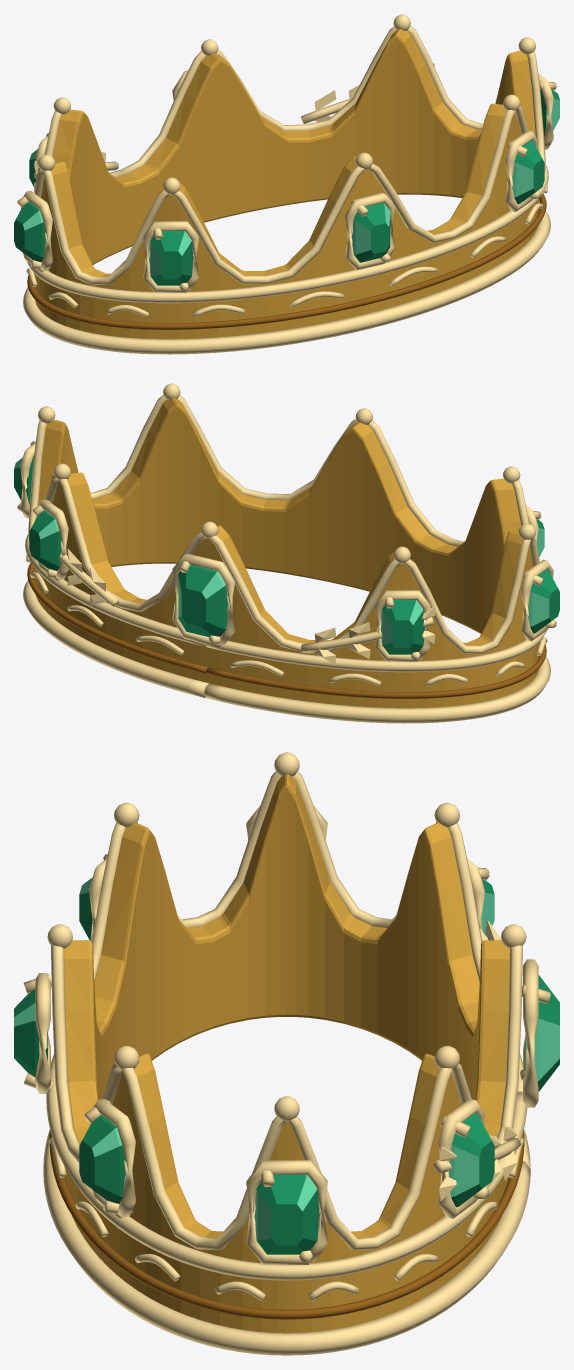
Rendered from life_crown.fbx.
3 views of the same model, one above another, from view 1: azimuth 30°, elevation 25°; view 2: azimuth 150°, elevation 25°; view 3: azimuth 270°, elevation 25° (orthographic). The views are drawn at different scales.
Parts seen in each view (by area): view 1: life_crown_armor; view 2: life_crown_armor; view 3: life_crown_armor.
Boxes of the visible parts, x1=… form: life_crown_armor: x1=14, y1=14, x2=559, y2=354; life_crown_armor: x1=14, y1=383, x2=559, y2=723; life_crown_armor: x1=14, y1=752, x2=559, y2=1355.
Size of the model in its own units: 3.88 by 1.2 by 2.34.
1 material, 1 textured.
